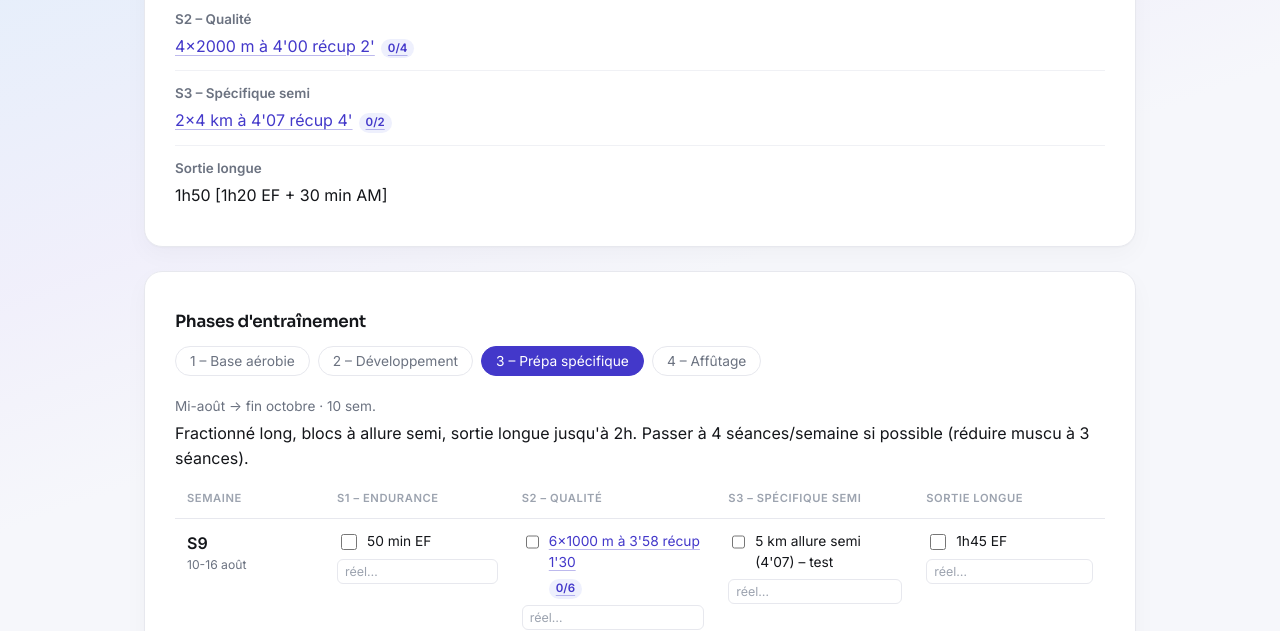
Test: RunningProgramComponent › shows a continuous session as plain text with no counter
The image size is (1280, 631).
(page scrolled)
Click the button "1 – Base aérobie" at coordinates (242, 361), box [175,346,310,376]
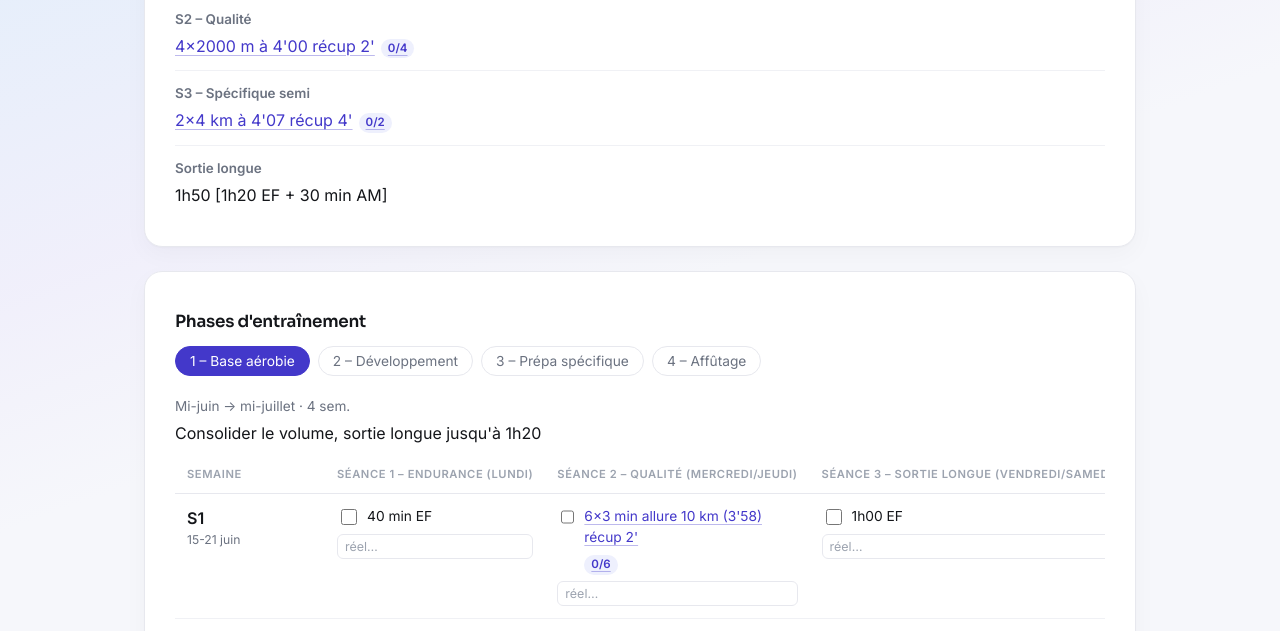
Result: the text with class "cell-session--plain" reads "40 min EF" at [367,508,432,524]
